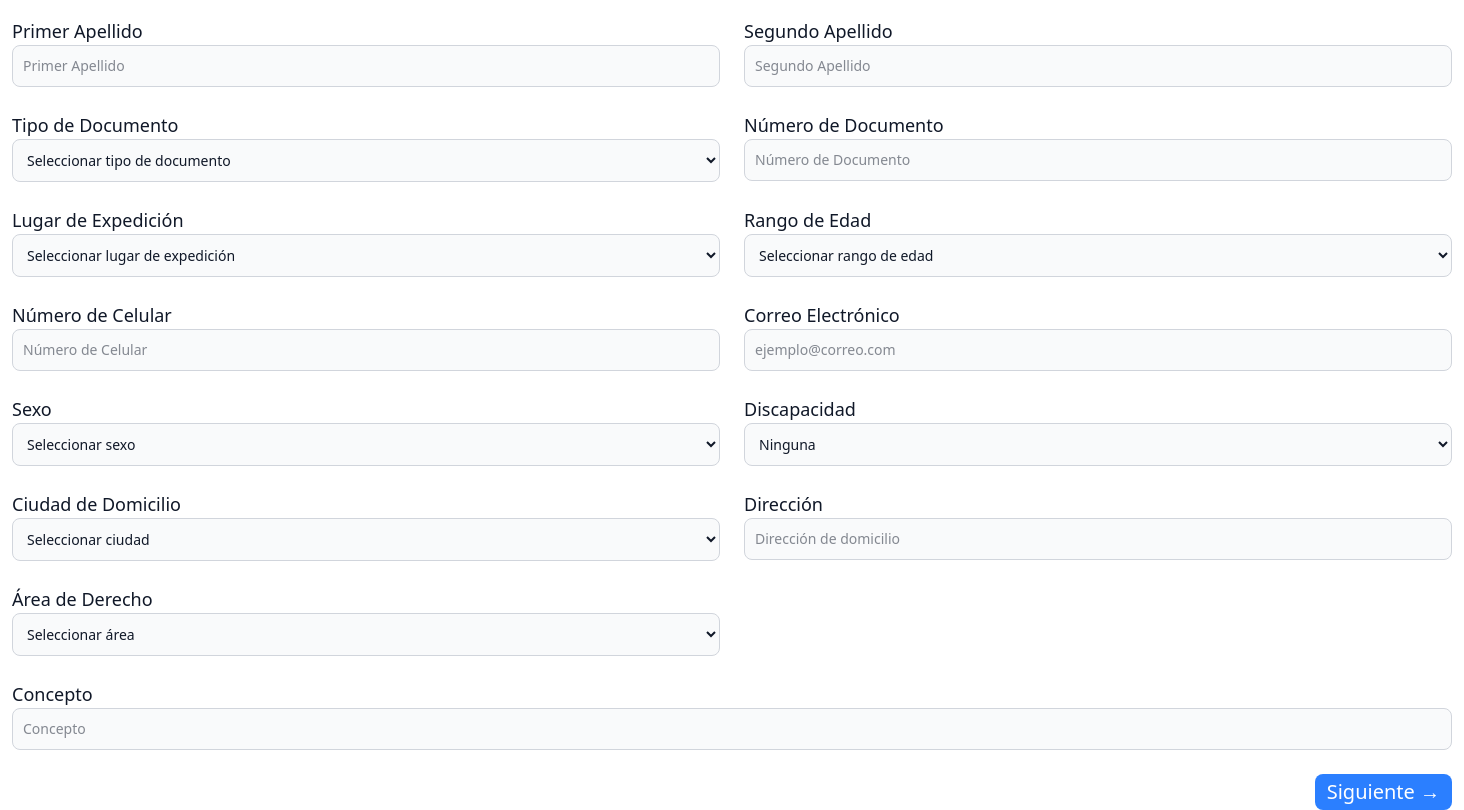
Test case: Form Validation › should show validation error when form is invalid
(page scrolled)
Click the button "Siguiente →".
click(1383, 792)  # box [1315,774,1452,809]
(page scrolled)
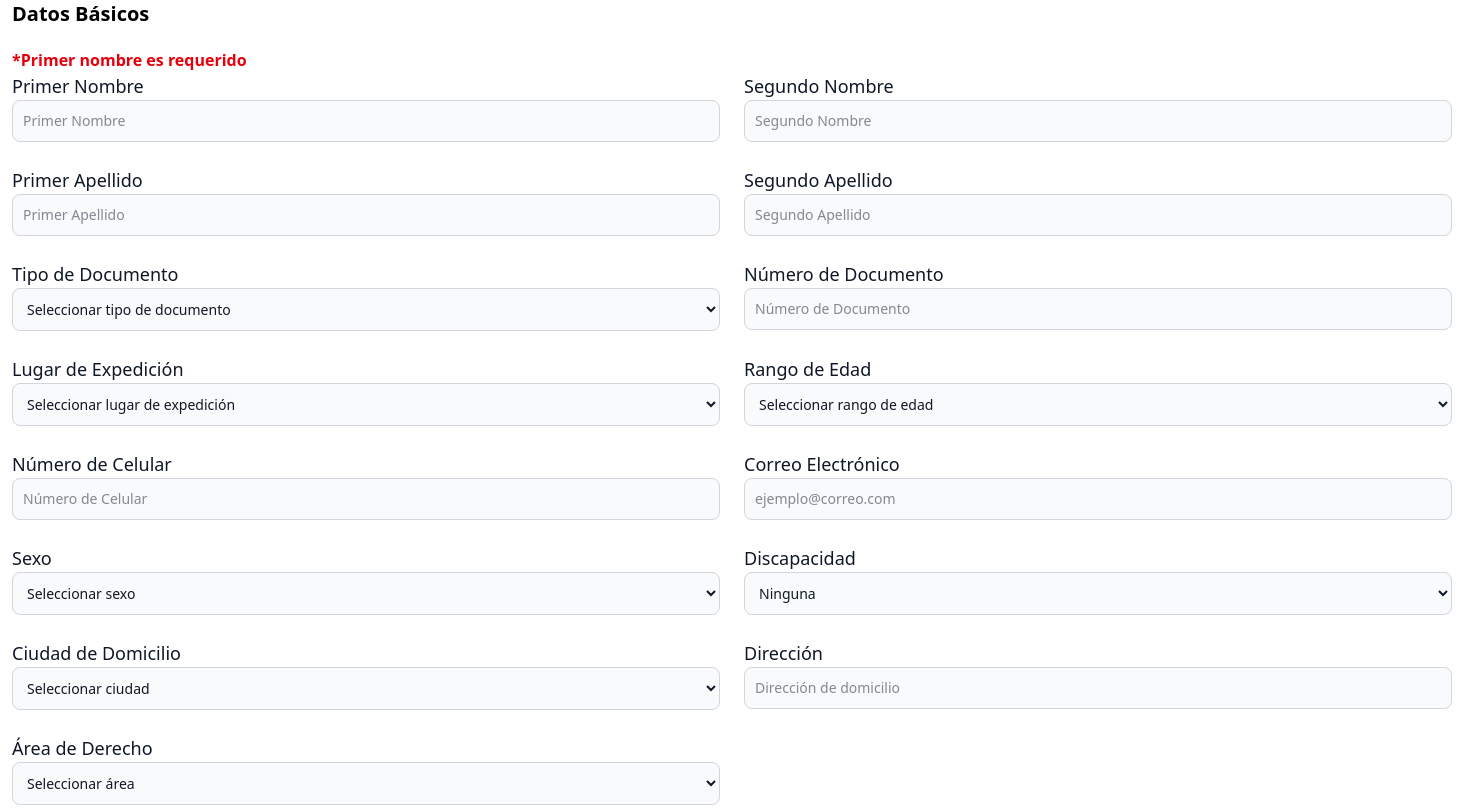
Expected: the text "*Primer nombre es requerido" is shown, [12,49,247,71]
